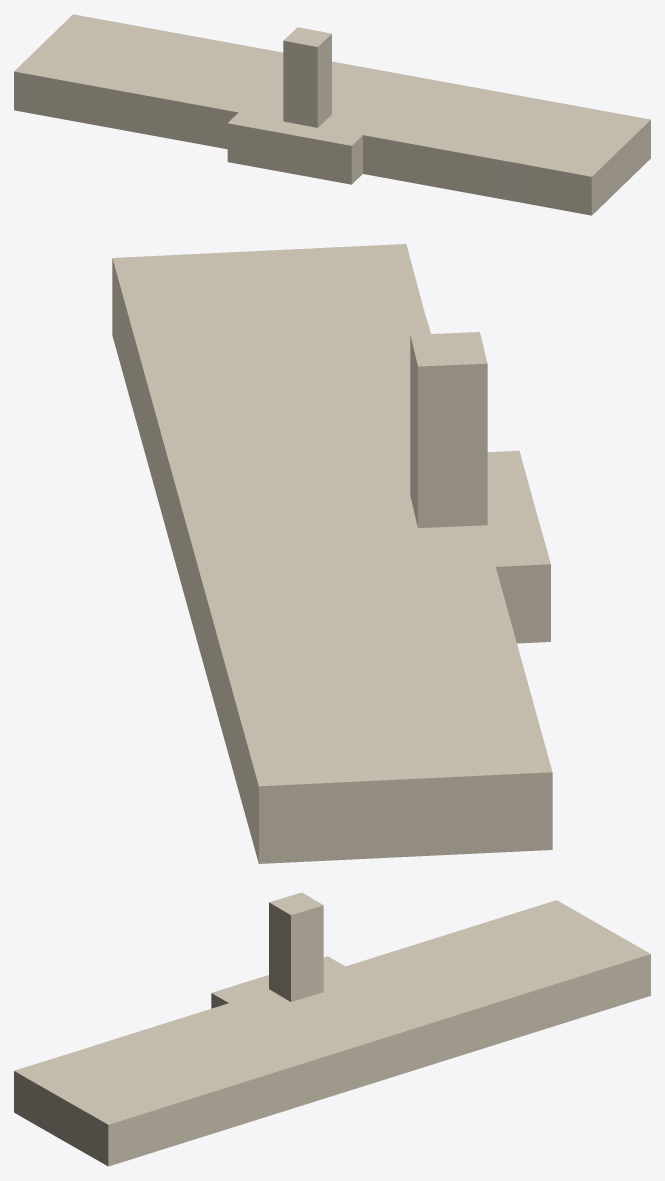
Rendered from ferry-building_lod2.glb.
The picture shows the model from 3 angles, top to bottom: view 1: azimuth 30°, elevation 25°; view 2: azimuth 150°, elevation 25°; view 3: azimuth 270°, elevation 25°; orthographic projection. The views are drawn at different scales.
Parts seen in each view (by area): view 1: ferry-building_lod2_stone; view 2: ferry-building_lod2_stone; view 3: ferry-building_lod2_stone.
Boxes of the visible parts, bbox=[...] form: ferry-building_lod2_stone: bbox=[14, 14, 650, 215]; ferry-building_lod2_stone: bbox=[112, 244, 552, 863]; ferry-building_lod2_stone: bbox=[14, 892, 650, 1166].
Bounding box in the file's own units: 158 × 42.2 × 189.
